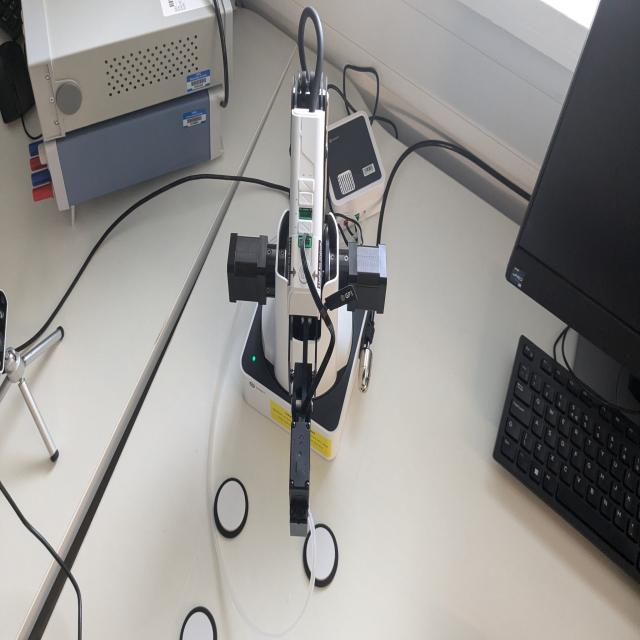Robot-end-effector-HF8z: (286, 412, 315, 540)
